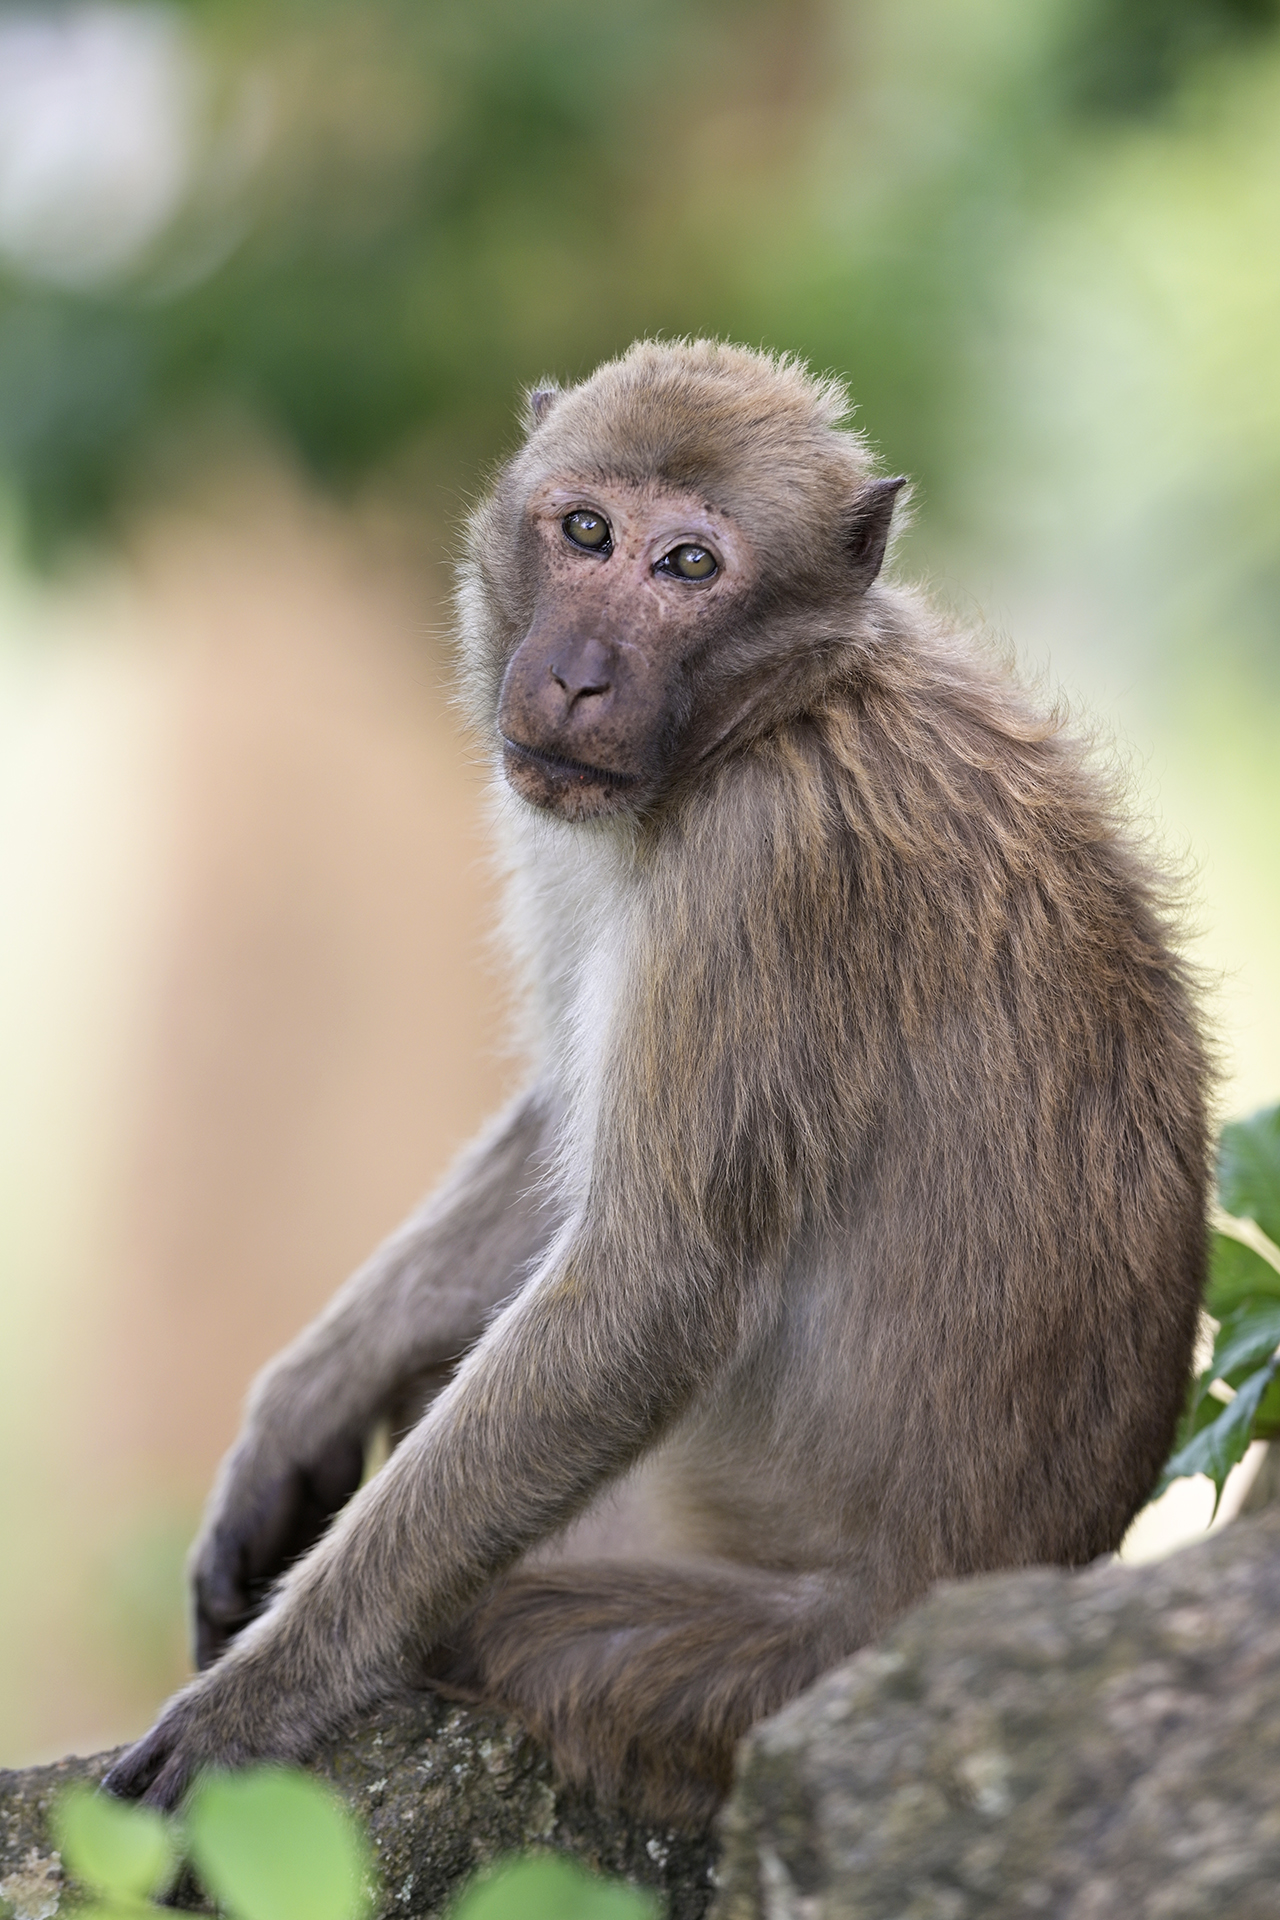monkey: (64, 316, 1280, 1854)
